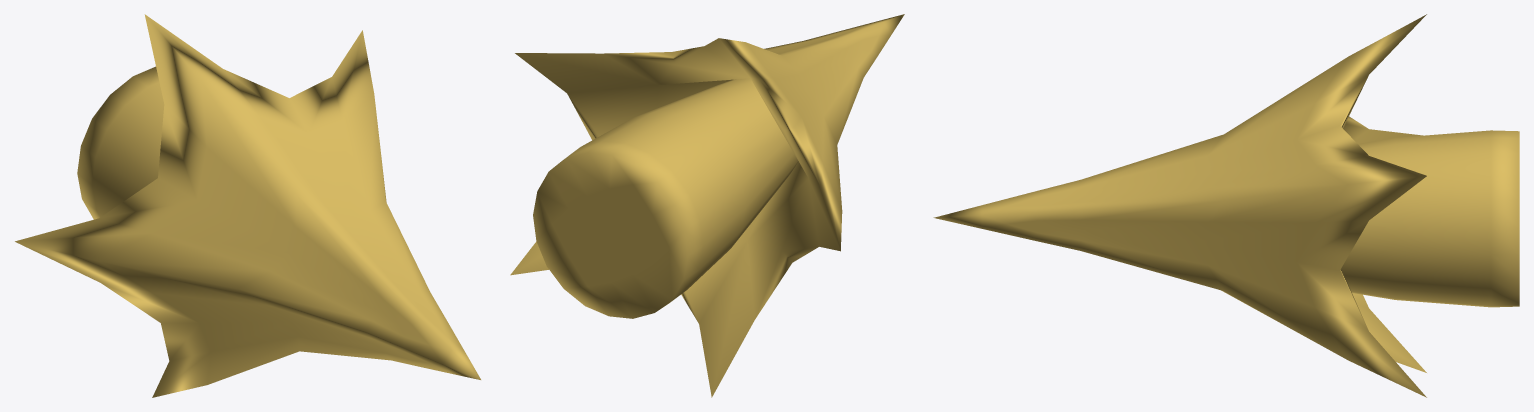
Rendered from Projectile.fbx.
3 views of the same model, side by side, from view 1: azimuth 30°, elevation 25°; view 2: azimuth 150°, elevation 25°; view 3: azimuth 270°, elevation 25° (orthographic). The views are drawn at different scales.
Parts seen in each view (by area): view 1: Proyectil; view 2: Proyectil; view 3: Proyectil.
Part boxes in pixels (x1,y1,x2,y2): Proyectil: (15, 14, 480, 397); Proyectil: (510, 14, 904, 397); Proyectil: (933, 14, 1519, 397).
Bounding box in the file's own units: 3.46 × 3.61 × 5.39.
